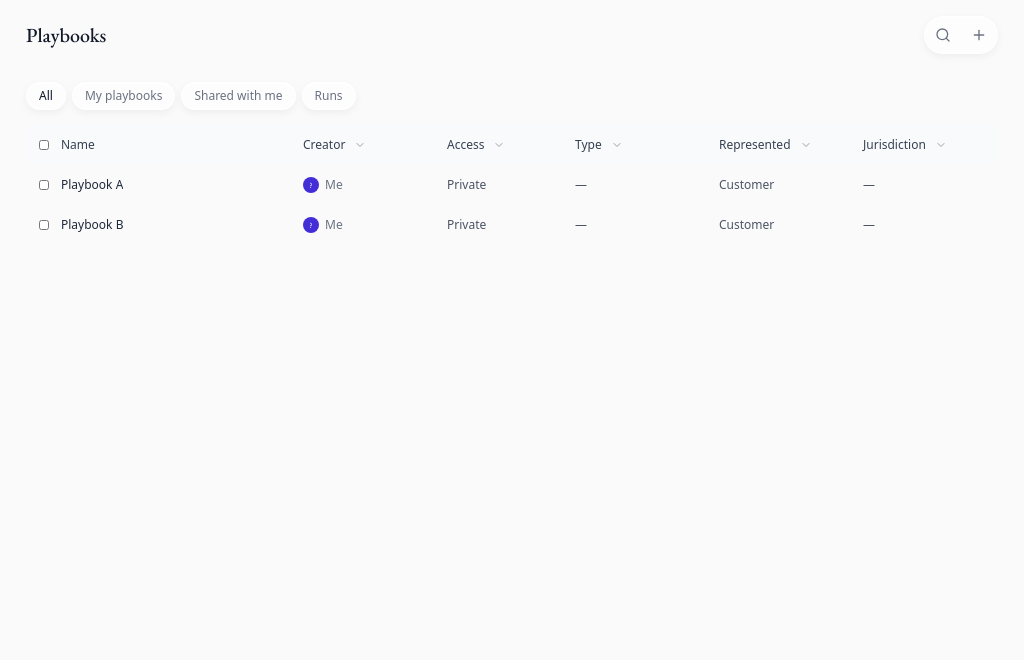
Scenario: playbooks page › opens a newly added rule even when its topic was collapsed
Click the link "Playbook A" at (92, 184), box [61,176,123,193]
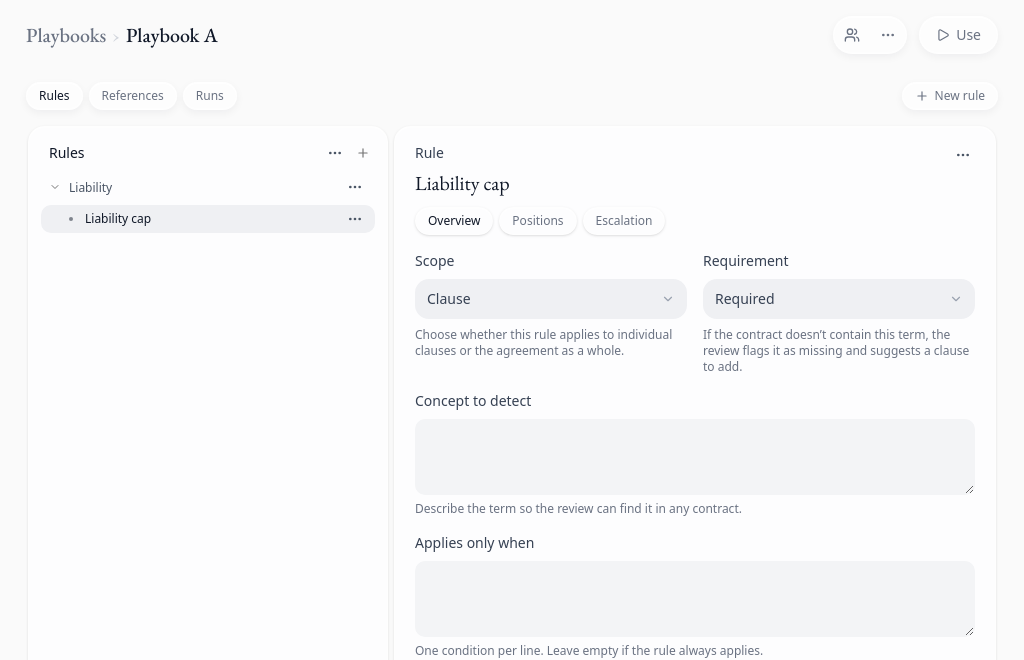
Click the button named "Collapse topic Liability" at (55, 187), box [49,173,61,201]
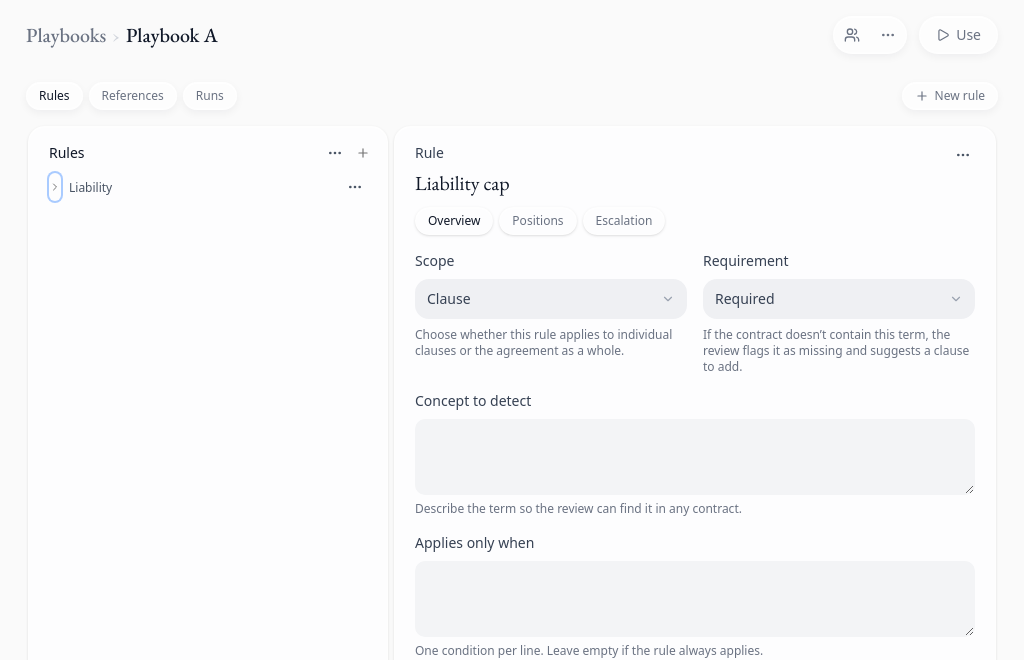
Click the button named "Topic actions for Liability" at (355, 187), box [343,175,367,199]
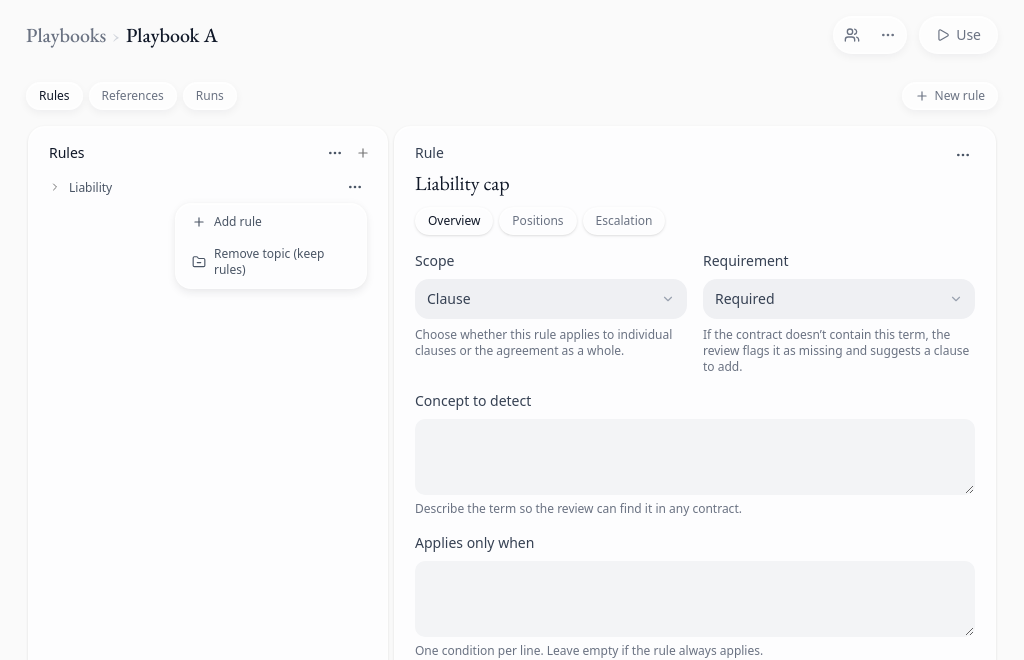
Click the menu item "Add rule" at (227, 222), box [192,213,262,230]
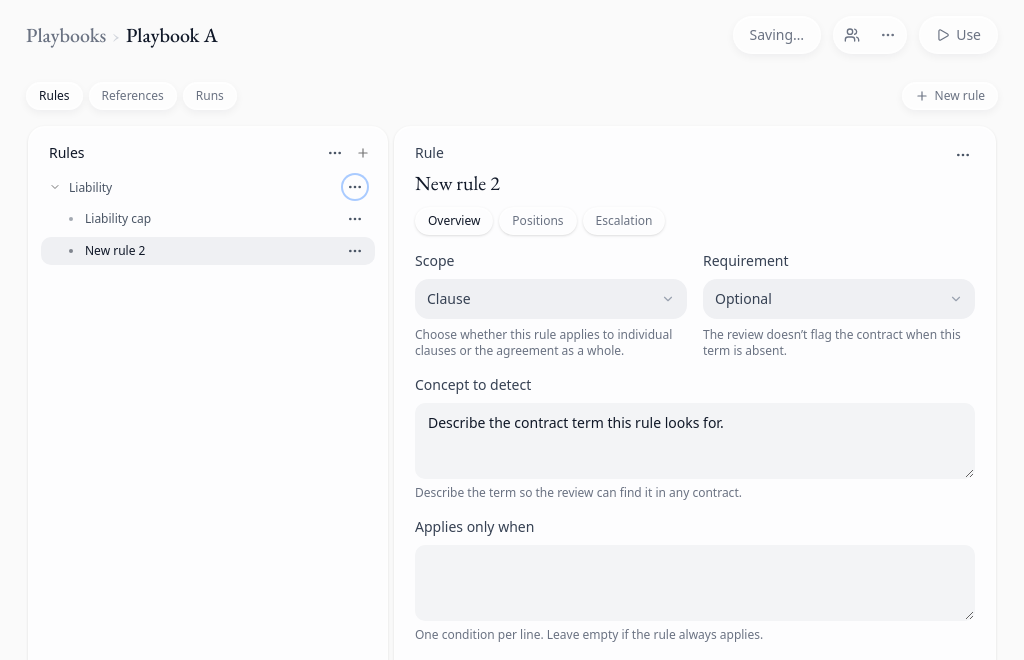
expect the text box labelled "Rule" holds "New rule 2": met, box [415,167,939,199]
expect the button named "Collapse topic Liability" is expanded: met, box [49,173,61,201]
expect the text box labelled "Concept to detect" is not empty: met, box [415,403,975,479]
